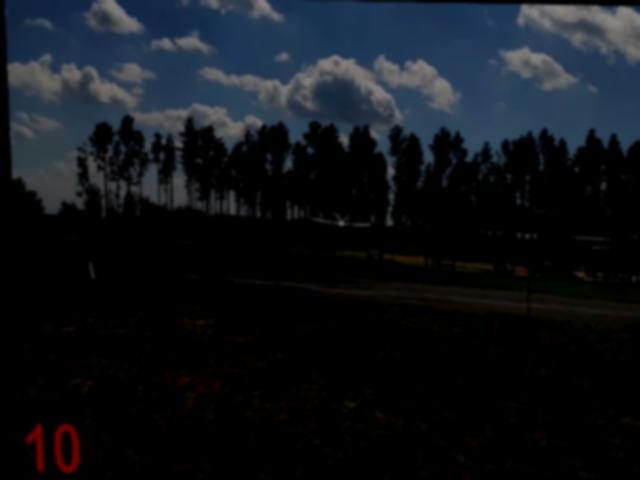plane: (309, 208, 369, 230)
